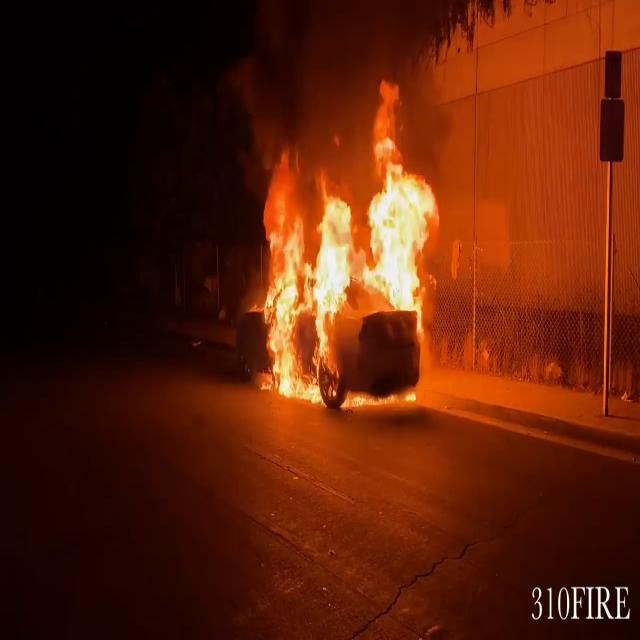Fire: (251, 95, 444, 409)
